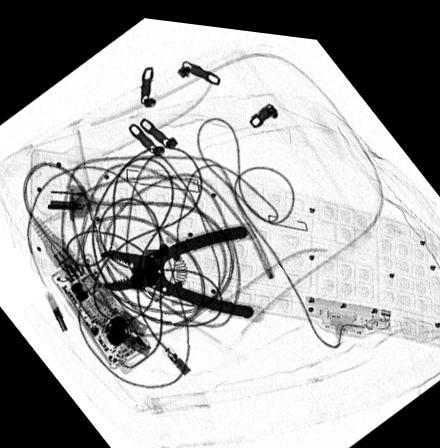Pliers: (97, 214, 253, 310)
